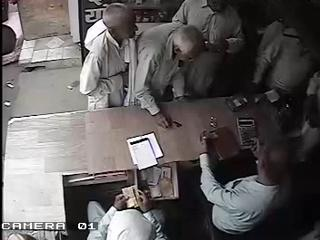Normal: (198, 99, 298, 240), (133, 23, 205, 128), (181, 1, 246, 100), (252, 1, 318, 96), (88, 184, 170, 240), (172, 0, 212, 31)
shoplifting: (78, 3, 138, 111)
